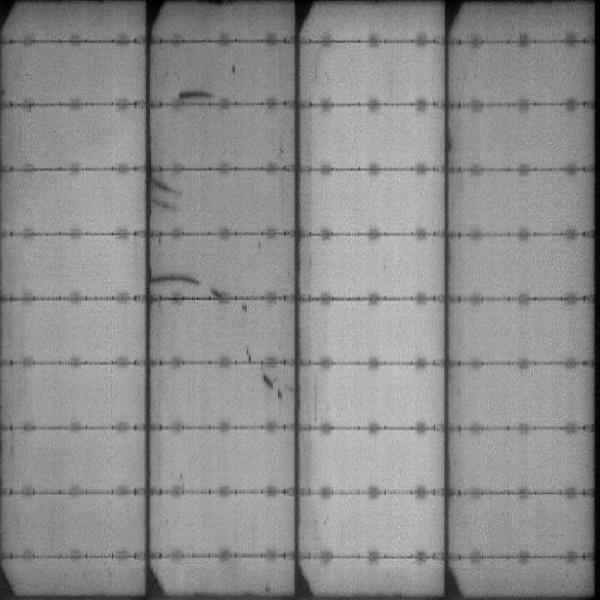scratch: (152, 277, 228, 301), (153, 179, 179, 212), (257, 370, 286, 396), (181, 90, 215, 99)
